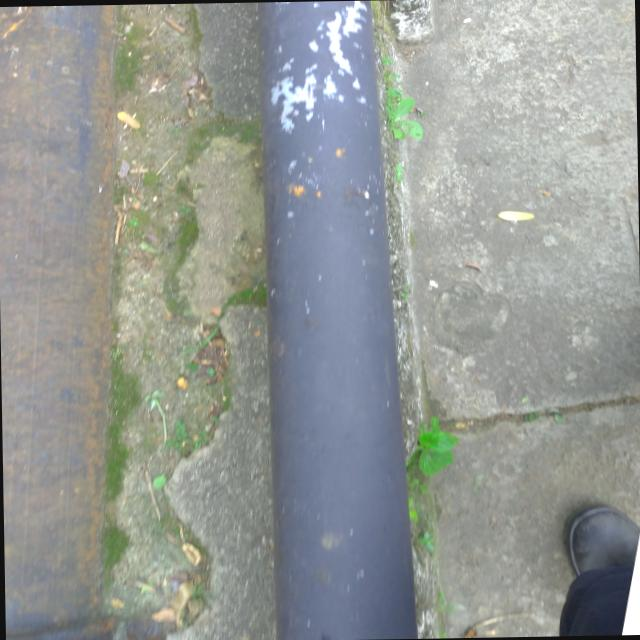gas: (258, 0, 415, 640)
